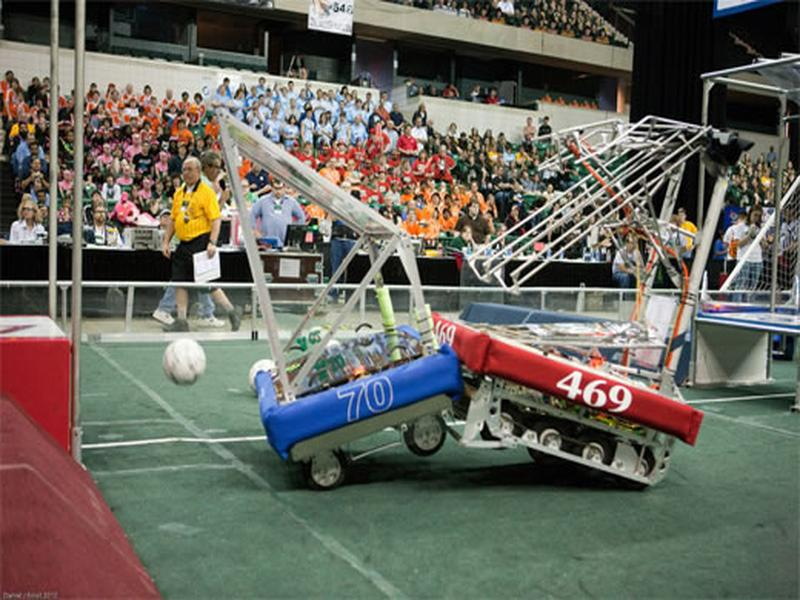robot: (449, 101, 732, 462), (215, 129, 443, 486)
